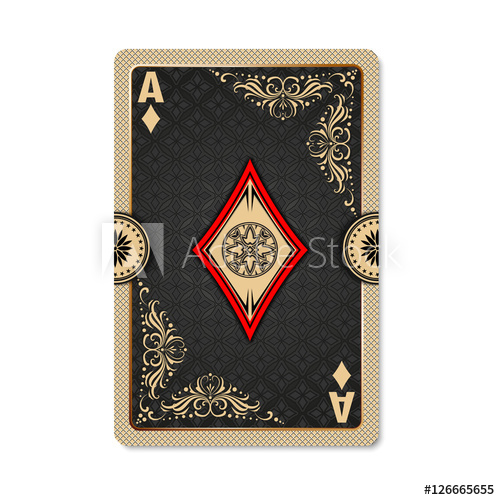ace of diamonds: (115, 49, 382, 448)
